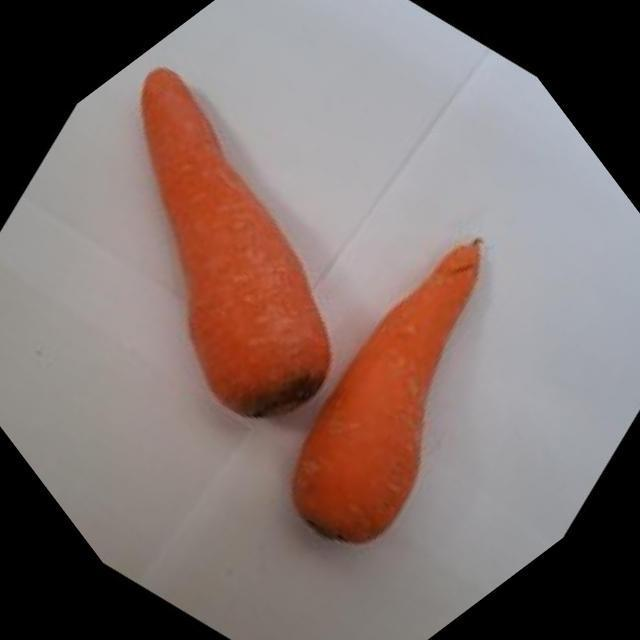Carrot: (141, 69, 330, 416), (294, 240, 479, 542)
